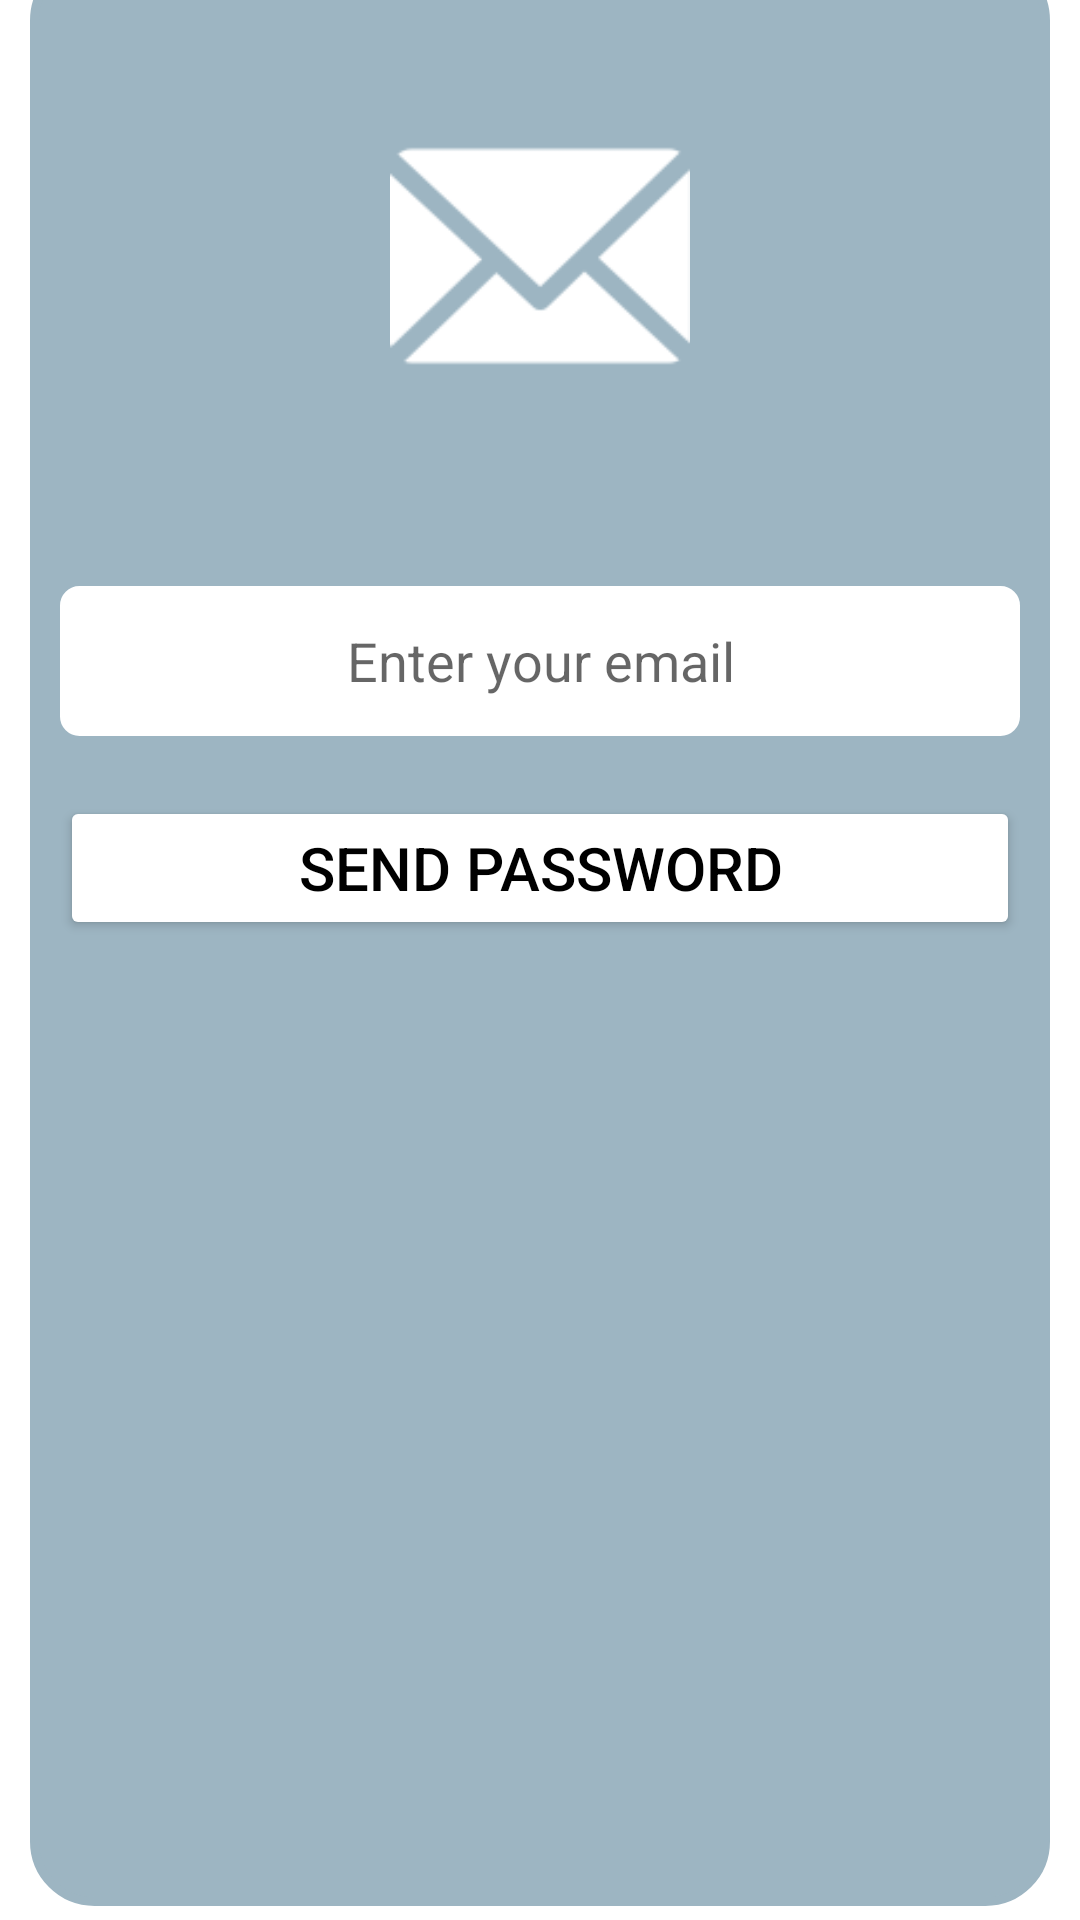

Screen size 1080px x 1920px. Icon name, then its box in pixels as (x1, y1, x2, y2):
email: (390, 148, 690, 364)
